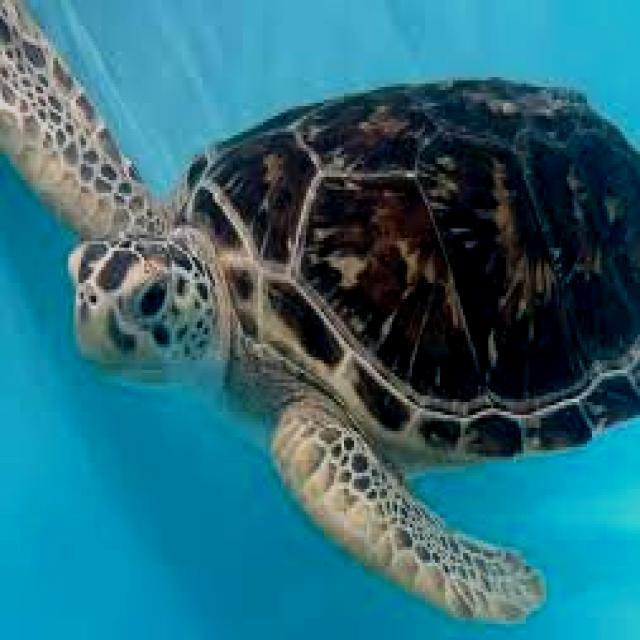Sea turtle: (5, 0, 640, 529)
